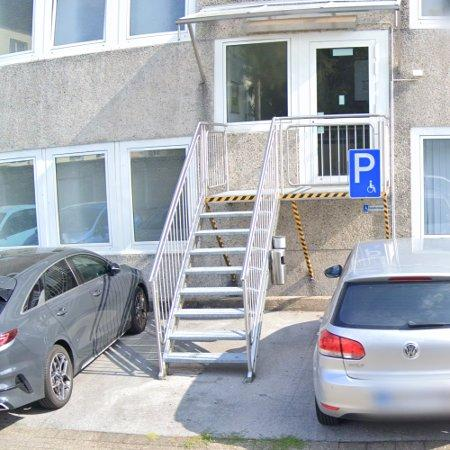stairs: (166, 119, 293, 382)
